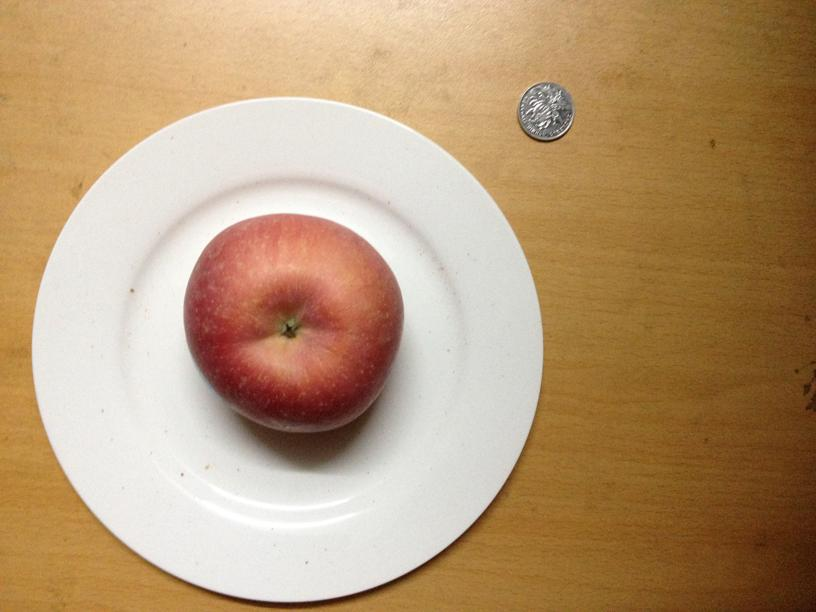apple: (177, 213, 405, 432)
coin: (518, 80, 575, 142)
